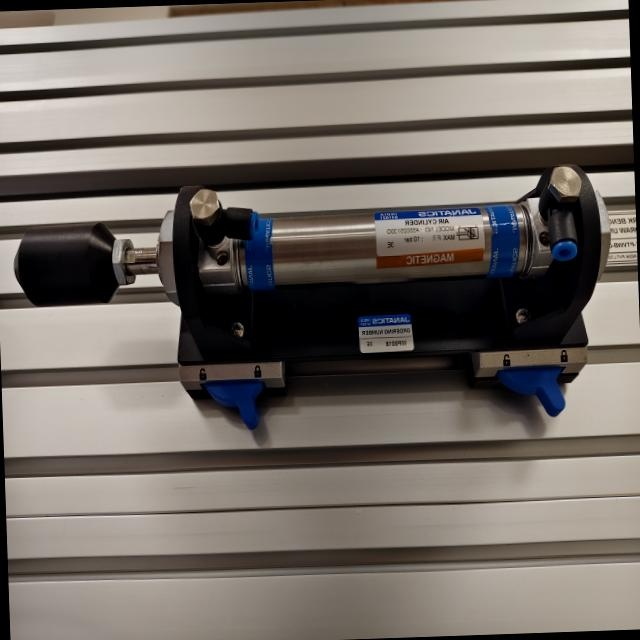double acting pneumatic cylinder: (14, 157, 619, 443)
push button: (12, 160, 619, 438)
